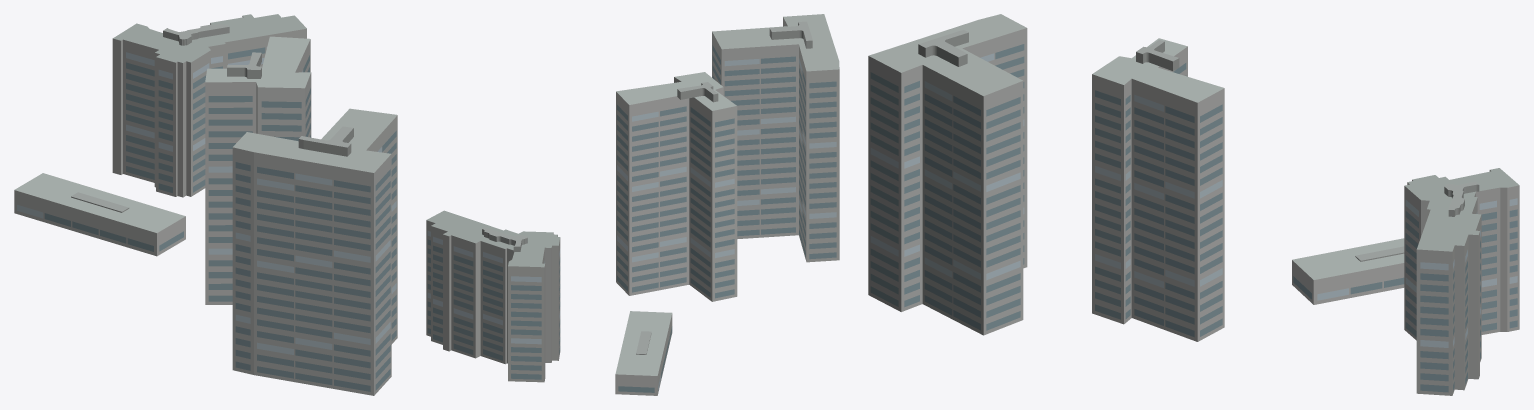
Rendered from apt-a12283603.glb.
The picture shows the model from 3 angles, left to right: view 1: azimuth 30°, elevation 25°; view 2: azimuth 150°, elevation 25°; view 3: azimuth 270°, elevation 25°; orthographic projection. The views are drawn at different scales.
Visible parts, largest first — view 1: apt-a12283603; view 2: apt-a12283603; view 3: apt-a12283603.
Boxes of the visible parts, <box> form: apt-a12283603: <box>14,14,397,395</box>; apt-a12283603: <box>426,14,839,395</box>; apt-a12283603: <box>868,14,1519,395</box>.
Size of the model in its own units: 75.76 by 61 by 145.
